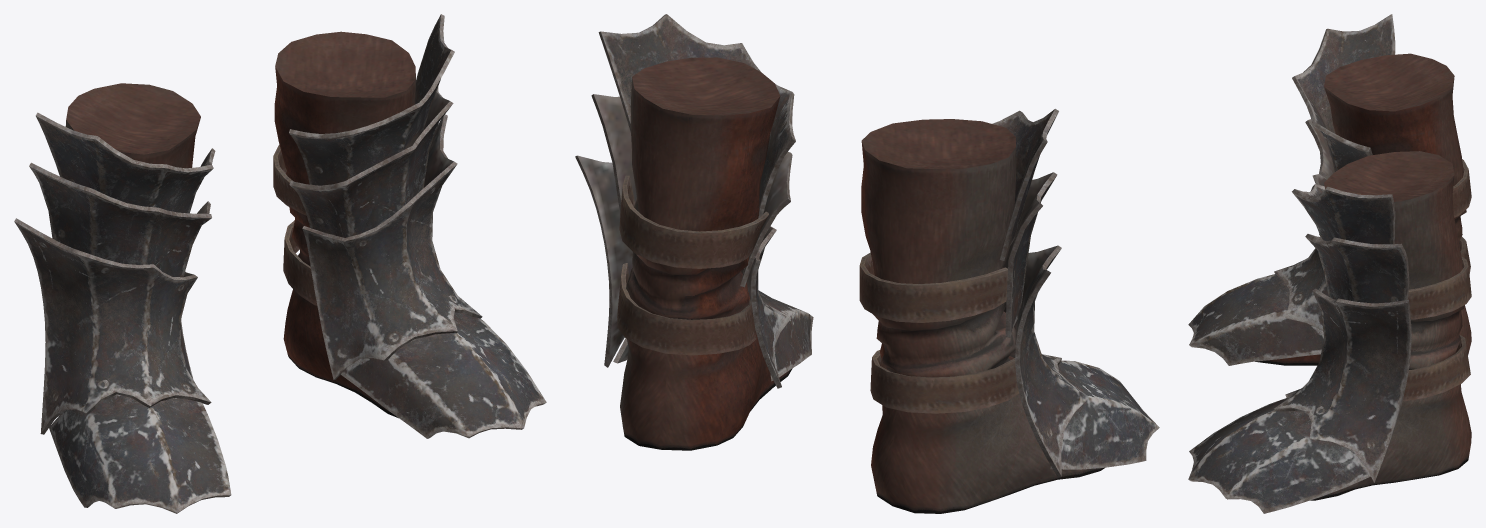
File: sk_dg_uruk_boots_elite_d.fbx
3 views of the same model, side by side, from view 1: azimuth 30°, elevation 25°; view 2: azimuth 150°, elevation 25°; view 3: azimuth 270°, elevation 25° (orthographic). The views are drawn at different scales.
Visible parts, largest first — view 1: sk_dg_uruk_boots_elite_d.0, sk_dg_uruk_boots_elite_d.1; view 2: sk_dg_uruk_boots_elite_d.0, sk_dg_uruk_boots_elite_d.1; view 3: sk_dg_uruk_boots_elite_d.0, sk_dg_uruk_boots_elite_d.1.
Boxes of the visible parts, x1,y1,x2,y2 form: sk_dg_uruk_boots_elite_d.0: (14,14,546,513); sk_dg_uruk_boots_elite_d.1: (273,145,317,305); sk_dg_uruk_boots_elite_d.0: (575,14,1159,513); sk_dg_uruk_boots_elite_d.1: (617,175,1018,413); sk_dg_uruk_boots_elite_d.0: (1188,14,1471,513); sk_dg_uruk_boots_elite_d.1: (1402,159,1471,401).
Bounding box in the file's own units: 0.5936 × 0.3539 × 0.4276.
Materials: 2 (2 with a texture image).
